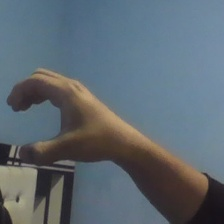C: (4, 63, 112, 168)
